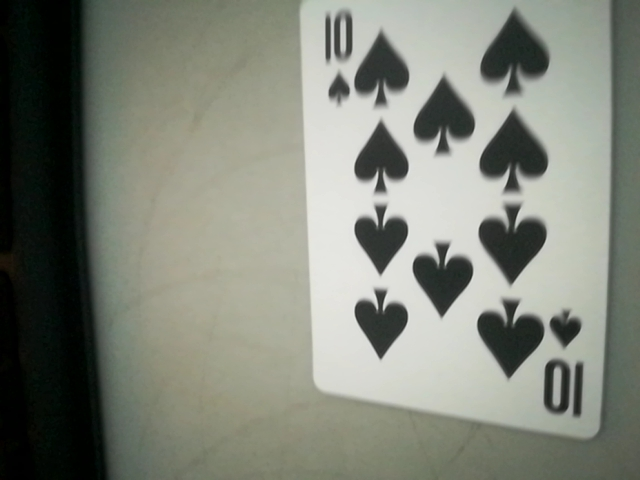ht 10: (542, 306, 593, 428)
